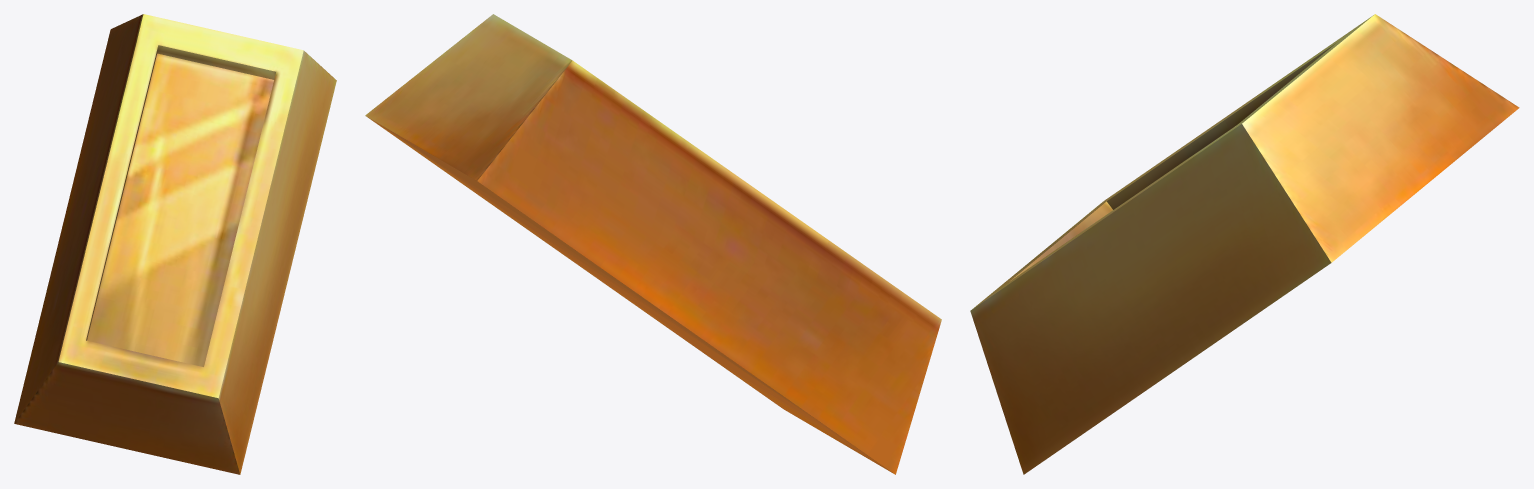
Rendered from gold bar.fbx.
The picture shows the model from 3 angles, left to right: view 1: azimuth 30°, elevation 25°; view 2: azimuth 150°, elevation 25°; view 3: azimuth 270°, elevation 25°; orthographic projection. The views are drawn at different scales.
Visible parts, largest first — view 1: color_variation:pasted__GoldBar1; view 2: color_variation:pasted__GoldBar1; view 3: color_variation:pasted__GoldBar1.
Boxes of the visible parts, x1,y1,x2,y2 form: color_variation:pasted__GoldBar1: [14, 14, 336, 474]; color_variation:pasted__GoldBar1: [365, 14, 941, 474]; color_variation:pasted__GoldBar1: [970, 14, 1519, 474].
Bounding box in the file's own units: 54.91 × 51.12 × 52.7.
